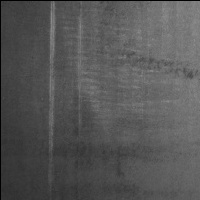scratches: (47, 4, 59, 182)
